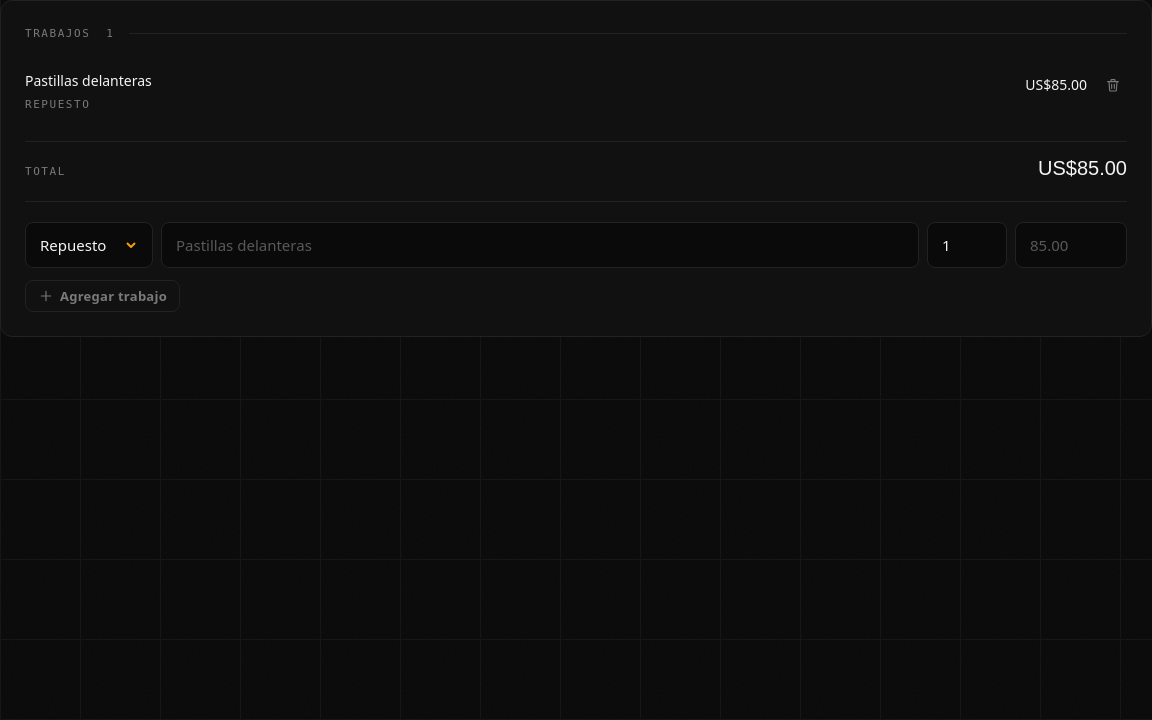
Test case: ItemsPanel › muestra el item agregado sin recargar la pagina
The image size is (1152, 720).
Expected: the text "Pastillas delanteras" is shown, [25,71,152,90]
Expected: the text "Mano de obra - rectificado" is not shown
Type "Mano de obra - rectificado" into the field with placeholder "Pastillas delanteras".
click(540, 245); type("Mano de obra - rectificado")  # box [161,222,919,268]
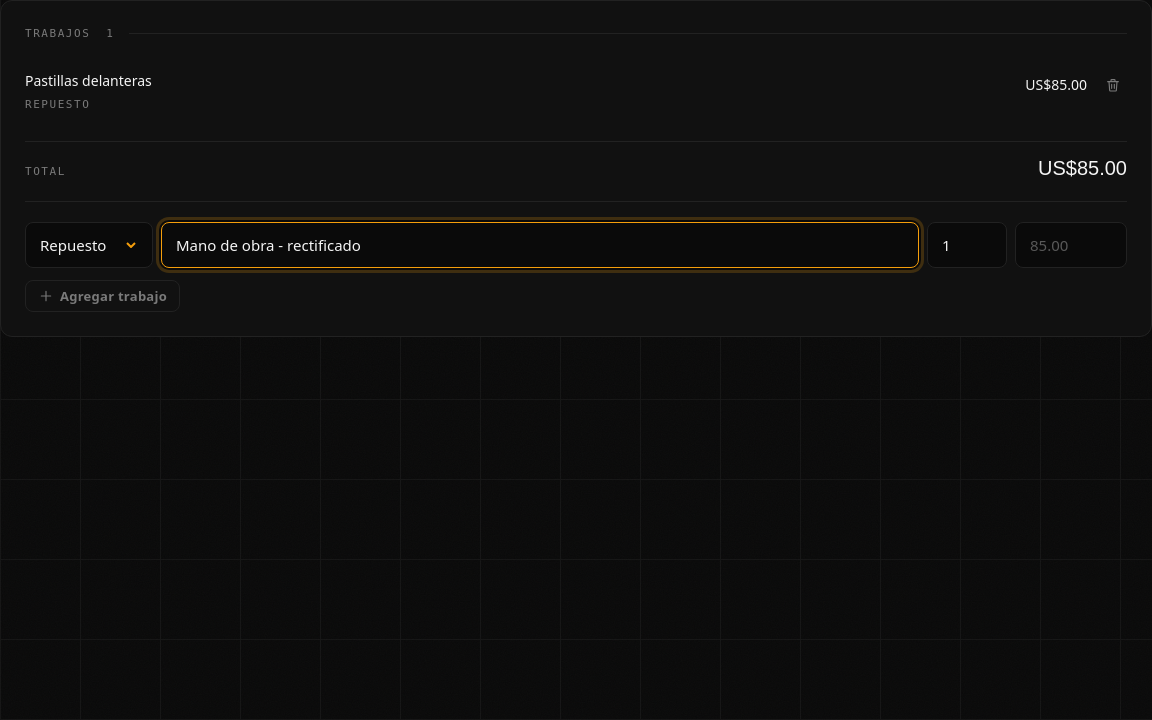
Type "120" into the number field named "Precio unitario".
click(1071, 245); type("120")  # box [1015,222,1127,268]
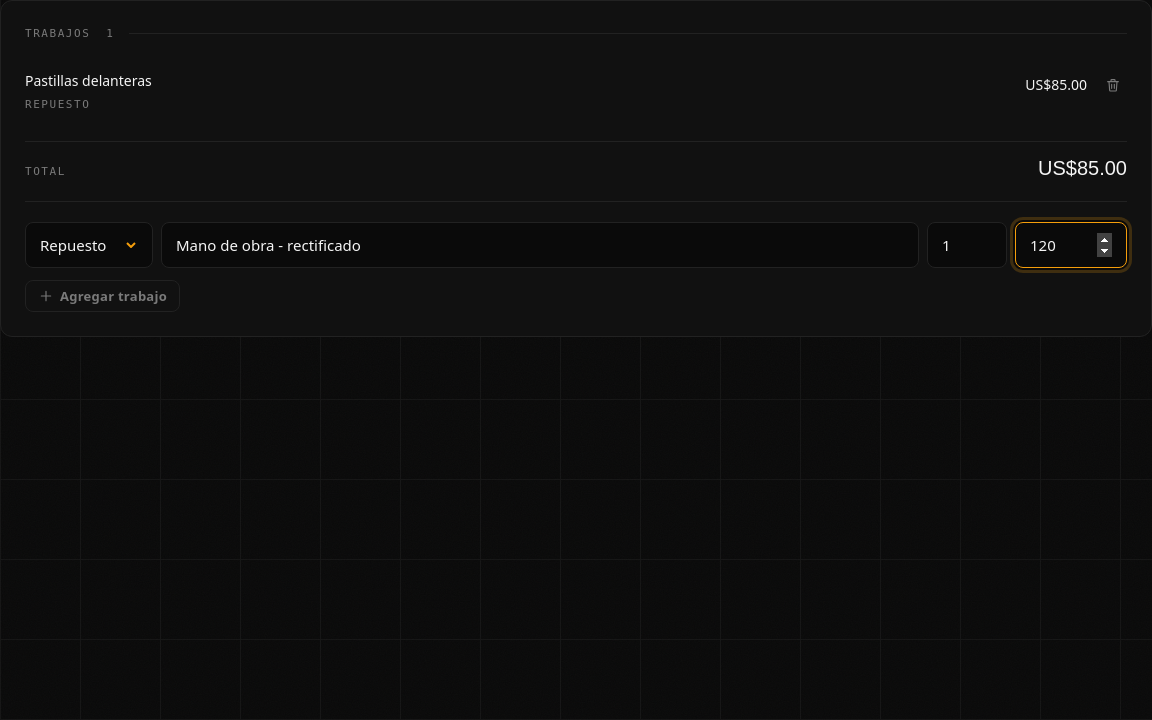
Click the button "Agregar trabajo".
click(102, 296)  # box [25,280,180,312]
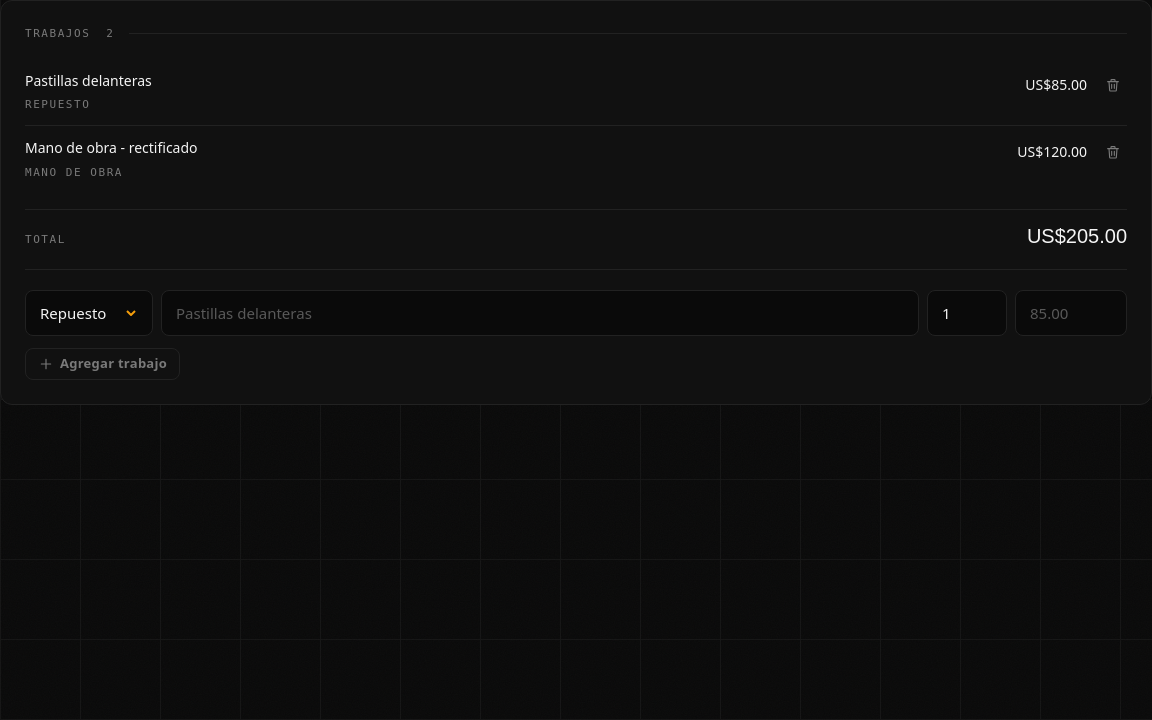
Expected: the text "Mano de obra - rectificado" is shown, [25,138,198,158]
